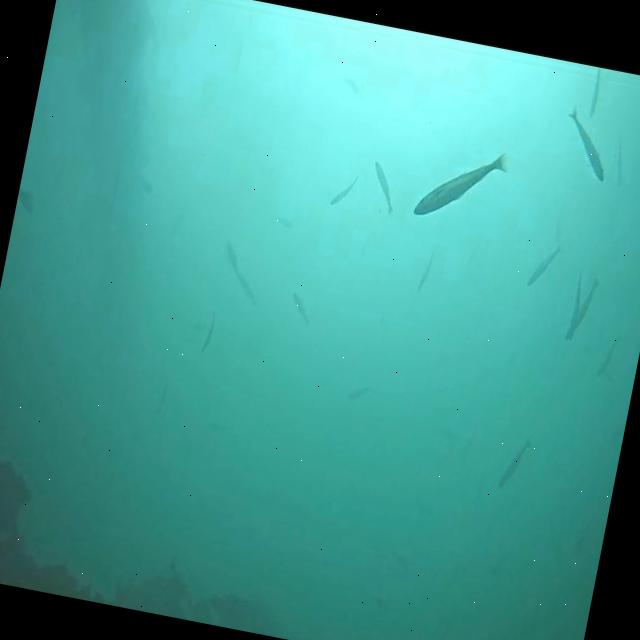fish: (413, 136, 512, 230), (557, 107, 617, 183), (565, 276, 599, 344), (366, 158, 401, 212), (499, 438, 531, 493), (528, 241, 566, 287), (566, 275, 586, 341), (596, 337, 620, 380), (330, 174, 360, 208), (586, 68, 604, 120), (612, 136, 630, 186), (232, 276, 261, 306), (198, 315, 216, 359), (222, 242, 244, 276), (416, 251, 433, 292), (288, 292, 311, 318), (348, 384, 371, 404), (342, 76, 360, 95), (272, 216, 294, 230)
